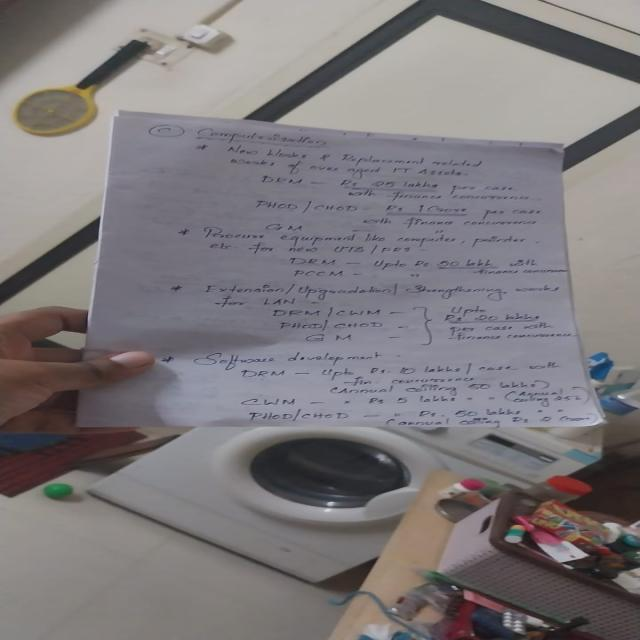Paper - Recyclable: (75, 109, 606, 429)
